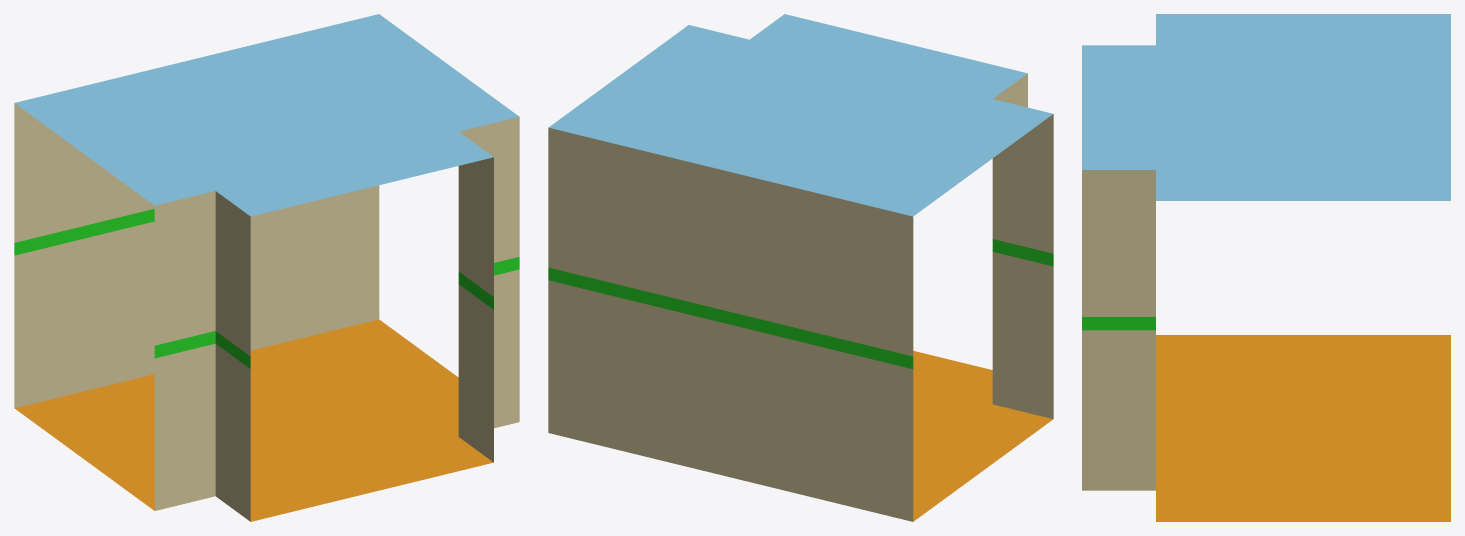
3 views of the same model, side by side, from view 1: azimuth 30°, elevation 25°; view 2: azimuth 150°, elevation 25°; view 3: azimuth 270°, elevation 25° (orthographic). The views are drawn at different scales.
Visible parts, largest first — view 1: Tjunction; view 2: Tjunction; view 3: Tjunction.
Part boxes in pixels (x1,y1,x2,y2): Tjunction: (14, 14, 519, 521); Tjunction: (548, 14, 1053, 521); Tjunction: (1082, 14, 1450, 521).
Bounding box in the file's own units: 300 × 240 × 250.
